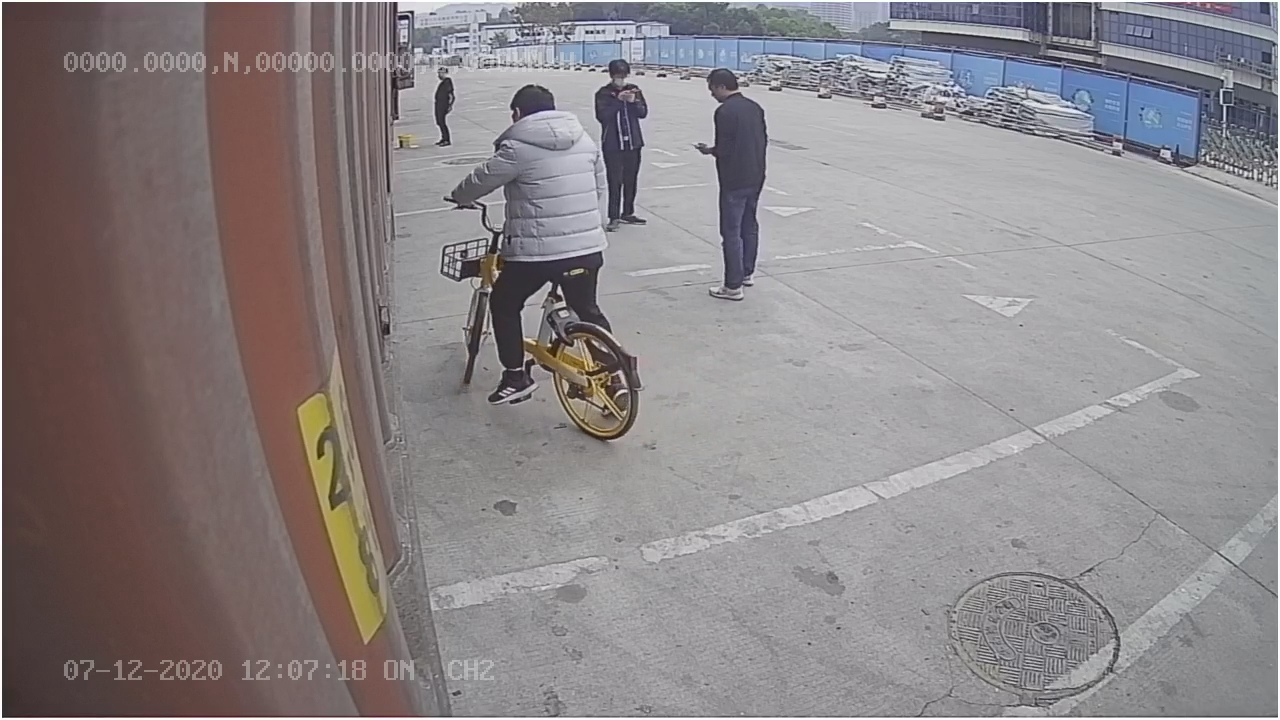person: (698, 66, 777, 303)
